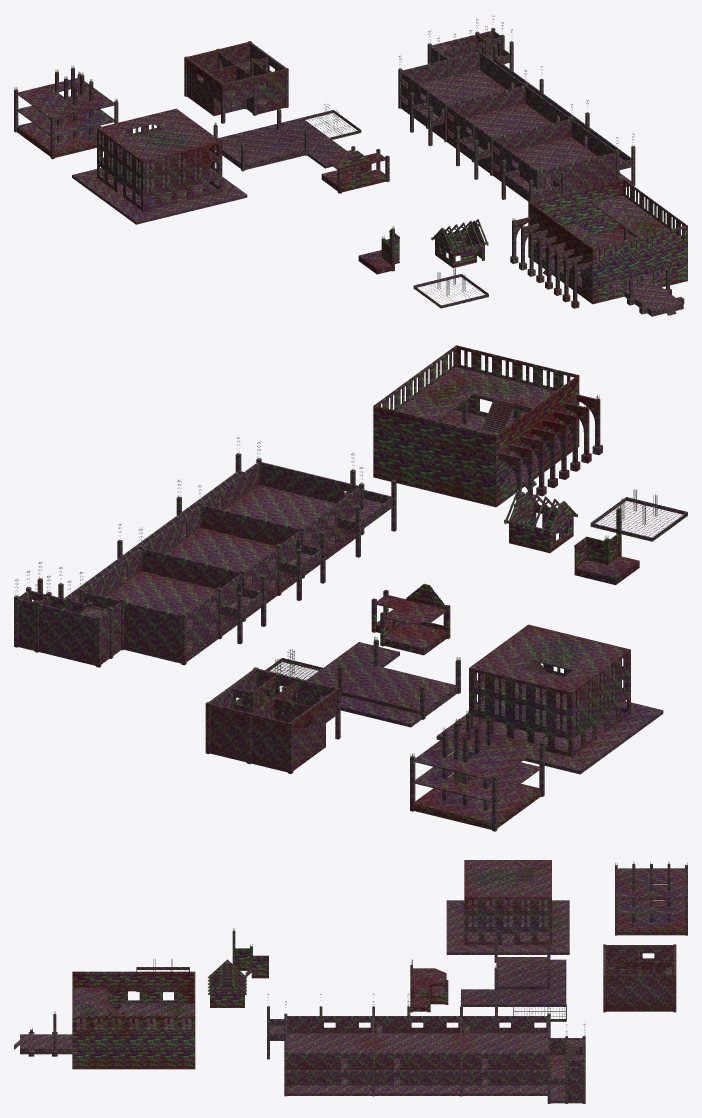
Rendered from UnfinishedBuildings.gltf.
3 views of the same model, one above another, from view 1: azimuth 30°, elevation 25°; view 2: azimuth 150°, elevation 25°; view 3: azimuth 270°, elevation 25° (orthographic). The views are drawn at different scales.
Parts seen in each view (by area): view 1: Structures_8, Structures_2, Structures_5, Structures_7, Structures_4, Structures_10, Structures_6, Structures_3, Structures_9, Structures_1; view 2: Structures_8, Structures_2, Structures_5, Structures_7, Structures_4, Structures_10, Structures_6, Structures_3, Structures_9, Structures_1; view 3: Structures_8, Structures_2, Structures_5, Structures_4, Structures_7, Structures_10, Structures_6, Structures_3, Structures_9.
Part boxes in pixels (<box>): Structures_8: <box>398,15,635,201</box>; Structures_2: <box>510,178,687,316</box>; Structures_5: <box>72,108,247,224</box>; Structures_7: <box>184,41,288,123</box>; Structures_4: <box>14,65,118,159</box>; Structures_10: <box>213,104,361,171</box>; Structures_6: <box>321,146,389,193</box>; Structures_3: <box>431,219,488,267</box>; Structures_9: <box>358,226,399,274</box>; Structures_1: <box>413,268,488,308</box>; Structures_8: <box>14,437,396,667</box>; Structures_2: <box>373,345,602,507</box>; Structures_5: <box>436,624,663,774</box>; Structures_7: <box>205,667,340,773</box>; Structures_4: <box>410,710,544,831</box>; Structures_10: <box>265,636,460,727</box>; Structures_6: <box>371,583,450,655</box>; Structures_3: <box>504,489,577,553</box>; Structures_9: <box>574,505,639,585</box>; Structures_1: <box>590,489,687,541</box>; Structures_8: <box>267,993,585,1103</box>; Structures_2: <box>14,971,195,1069</box>; Structures_5: <box>446,860,569,954</box>; Structures_4: <box>615,862,687,935</box>; Structures_7: <box>603,944,676,1012</box>; Structures_10: <box>461,935,566,1021</box>; Structures_6: <box>410,959,448,1012</box>; Structures_3: <box>208,959,246,1007</box>; Structures_9: <box>232,928,268,978</box>.
Size of what is drawn, in the model's own units: 81.25 by 11 by 115.
Materials: 1 (1 with a texture image).
